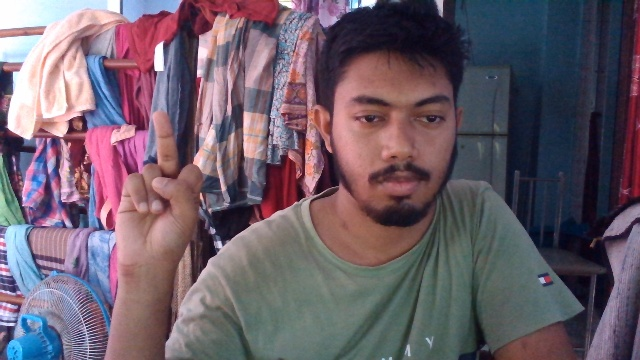fucku: (114, 109, 204, 279)
